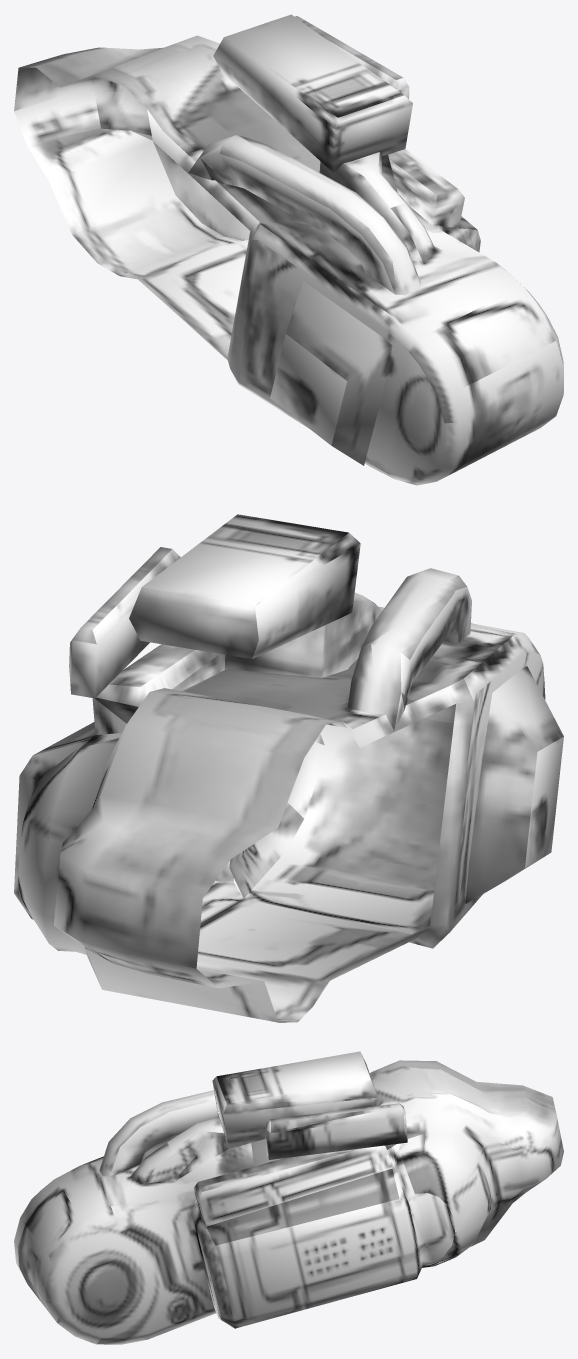
Rendered from fl_thigh.glb.
3 views of the same model, one above another, from view 1: azimuth 30°, elevation 25°; view 2: azimuth 150°, elevation 25°; view 3: azimuth 270°, elevation 25° (orthographic). The views are drawn at different scales.
Parts seen in each view (by area): view 1: fl_thigh; view 2: fl_thigh; view 3: fl_thigh.
Part boxes in pixels (<box>): fl_thigh: <box>14,14,563,485</box>; fl_thigh: <box>14,514,563,1022</box>; fl_thigh: <box>14,1051,563,1344</box>.
Bounding box in the file's own units: 0.5993 × 0.7 × 1.38.
Materials: 3 (3 with a texture image).
